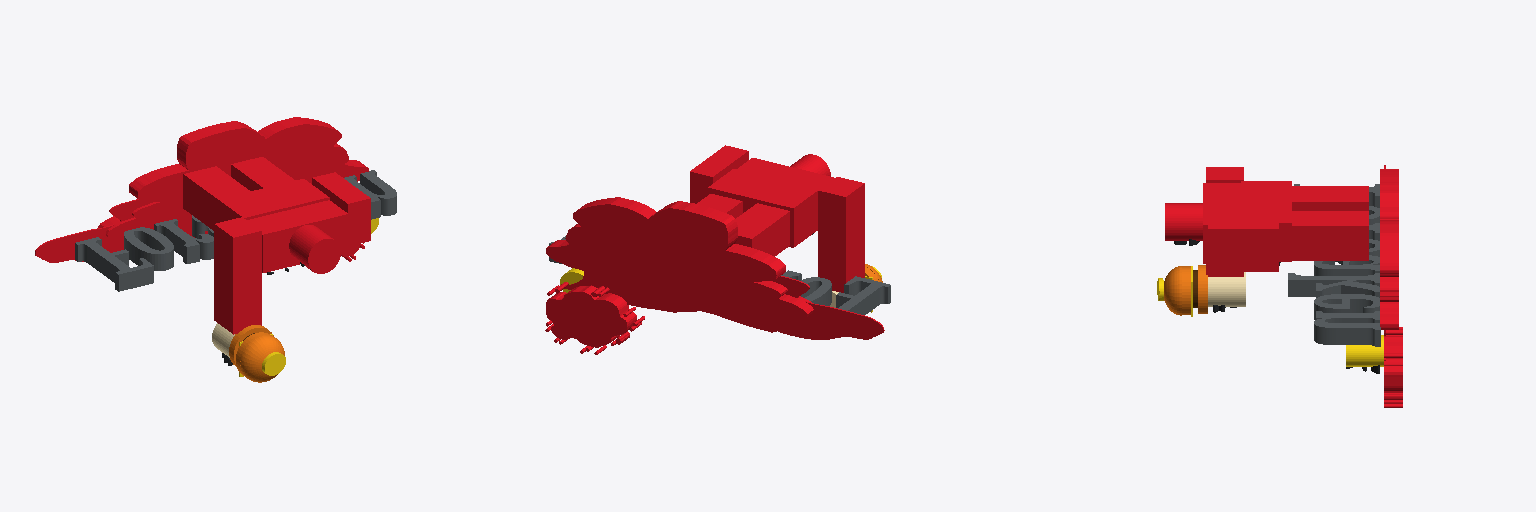
Rendered from tinker.obj.
The picture shows the model from 3 angles: view 1: azimuth 30°, elevation 25°; view 2: azimuth 150°, elevation 25°; view 3: azimuth 270°, elevation 25°; orthographic projection.
Visible parts, largest first — view 1: obj_0; view 2: obj_0; view 3: obj_0.
Boxes of the visible parts, box(x1,y1,x2,y2) form: obj_0: box(35, 117, 396, 382); obj_0: box(545, 145, 890, 354); obj_0: box(1157, 165, 1402, 407).
Size of the model in its own units: 204 by 96.63 by 129.